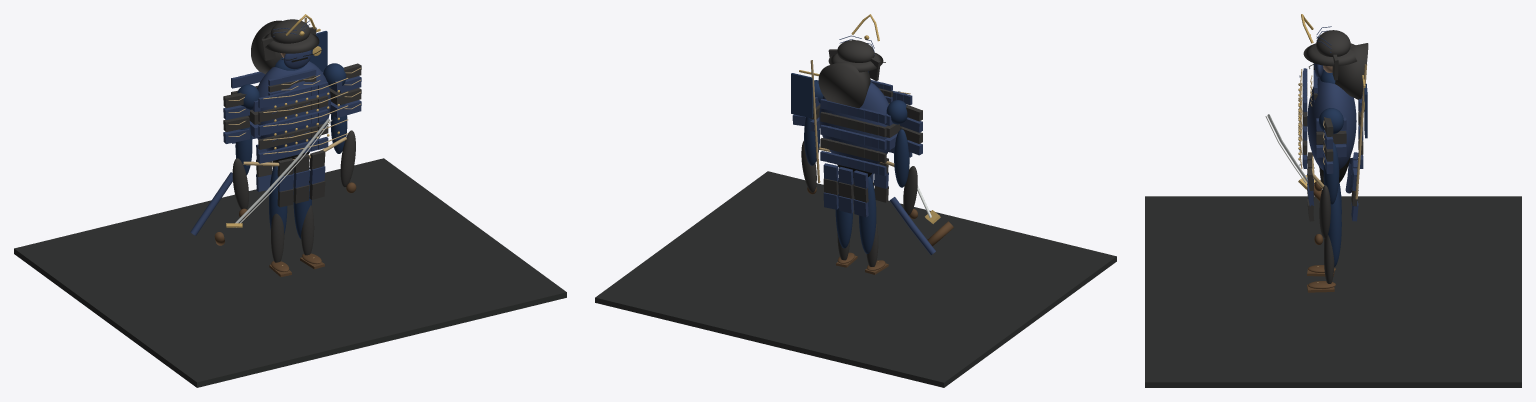
The model's file is actor-uesugi-05.glb.
3 views of the same model, side by side, from view 1: azimuth 30°, elevation 25°; view 2: azimuth 150°, elevation 25°; view 3: azimuth 270°, elevation 25° (orthographic). The views are drawn at different scales.
Parts seen in each view (by area): view 1: matte charcoal inspection plinth, rounded do cuirass silhouette, rear shikoro neck guard flare, segmented kabuto helmet bowl, right kote forearm guard, left kote forearm guard, wide kabuto brim, left shin greave, left hakama trouser leg, lacquered saya scabbard at left hip, right shin greave, right armored upper arm; view 2: matte charcoal inspection plinth, rear shikoro neck guard flare, rounded do cuirass silhouette, cloth sashimono banner panel, left hakama trouser leg, left armored upper arm, segmented kabuto helmet bowl, right hakama trouser leg, left kote forearm guard, right armored upper arm, lacquered saya scabbard at left hip, right kote forearm guard; view 3: matte charcoal inspection plinth, rounded do cuirass silhouette, rear shikoro neck guard flare, segmented kabuto helmet bowl, right hakama trouser leg, wide kabuto brim, right armored upper arm, right kote forearm guard, right shin greave, right shoulder undercloth, bamboo sashimono back pole.
Part boxes in pixels (x1=…): matte charcoal inspection plinth: x1=14, y1=158, x2=566, y2=387; rounded do cuirass silhouette: x1=257, y1=61, x2=330, y2=150; rear shikoro neck guard flare: x1=251, y1=20, x2=282, y2=74; segmented kabuto helmet bowl: x1=270, y1=19, x2=310, y2=43; right kote forearm guard: x1=340, y1=130, x2=355, y2=187; left kote forearm guard: x1=232, y1=158, x2=248, y2=209; wide kabuto brim: x1=261, y1=33, x2=319, y2=53; left shin greave: x1=271, y1=213, x2=284, y2=262; left hakama trouser leg: x1=269, y1=166, x2=287, y2=234; lacquered saya scabbard at left hip: x1=190, y1=172, x2=232, y2=235; right shin greave: x1=301, y1=205, x2=314, y2=255; right armored upper arm: x1=330, y1=104, x2=347, y2=153; matte charcoal inspection plinth: x1=595, y1=171, x2=1116, y2=387; rear shikoro neck guard flare: x1=818, y1=61, x2=870, y2=108; rounded do cuirass silhouette: x1=819, y1=82, x2=888, y2=163; cloth sashimono banner panel: x1=791, y1=73, x2=813, y2=118; left hakama trouser leg: x1=859, y1=176, x2=876, y2=253; left armored upper arm: x1=894, y1=129, x2=909, y2=187; segmented kabuto helmet bowl: x1=837, y1=40, x2=874, y2=62; right hakama trouser leg: x1=835, y1=180, x2=852, y2=248; left kote forearm guard: x1=903, y1=166, x2=917, y2=215; right armored upper arm: x1=804, y1=117, x2=819, y2=165; lacquered saya scabbard at left hip: x1=889, y1=197, x2=935, y2=254; right kote forearm guard: x1=801, y1=140, x2=816, y2=192; matte charcoal inspection plinth: x1=1145, y1=196, x2=1521, y2=387; rounded do cuirass silhouette: x1=1307, y1=78, x2=1356, y2=170; rear shikoro neck guard flare: x1=1335, y1=43, x2=1368, y2=99; segmented kabuto helmet bowl: x1=1316, y1=30, x2=1350, y2=56; right hakama trouser leg: x1=1328, y1=189, x2=1341, y2=267; wide kabuto brim: x1=1303, y1=43, x2=1356, y2=66; right armored upper arm: x1=1323, y1=142, x2=1339, y2=204; right kote forearm guard: x1=1319, y1=185, x2=1330, y2=238; right shin greave: x1=1324, y1=235, x2=1334, y2=283; right shoulder undercloth: x1=1319, y1=108, x2=1343, y2=134; bamboo sashimono back pole: x1=1355, y1=64, x2=1366, y2=199.
Bounding box in the file's own units: 4.2 × 2.96 × 3.6.
